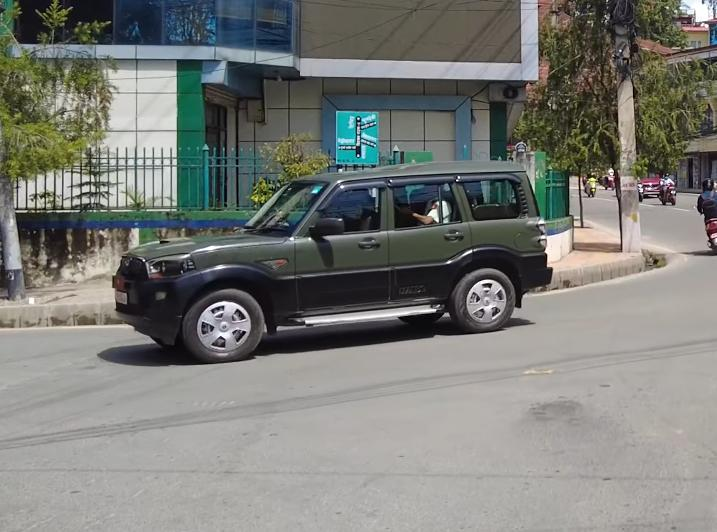SUV: (105, 148, 562, 366)
